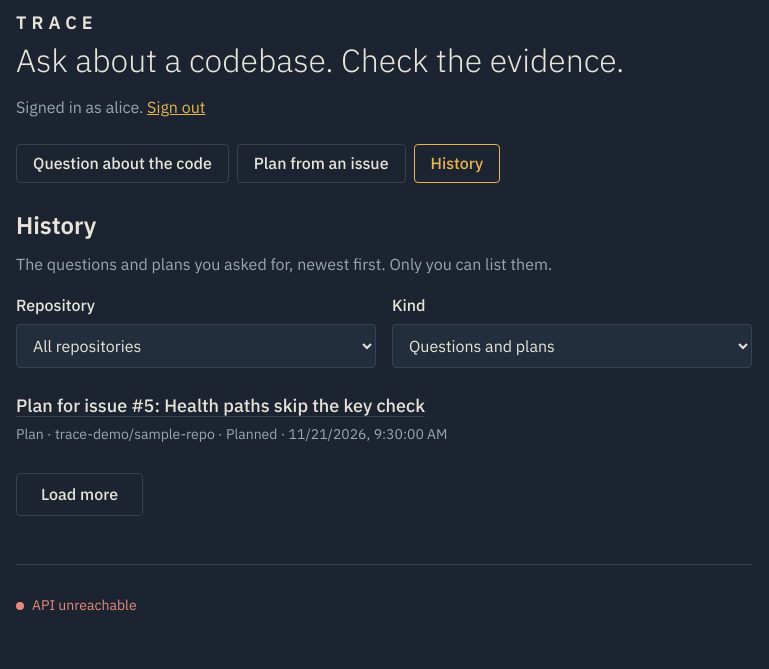
the history list › keeps what is listed when loading more fails, and says so with the reference
Click the button "Load more": (80, 495) left=16, top=473, right=143, bottom=516
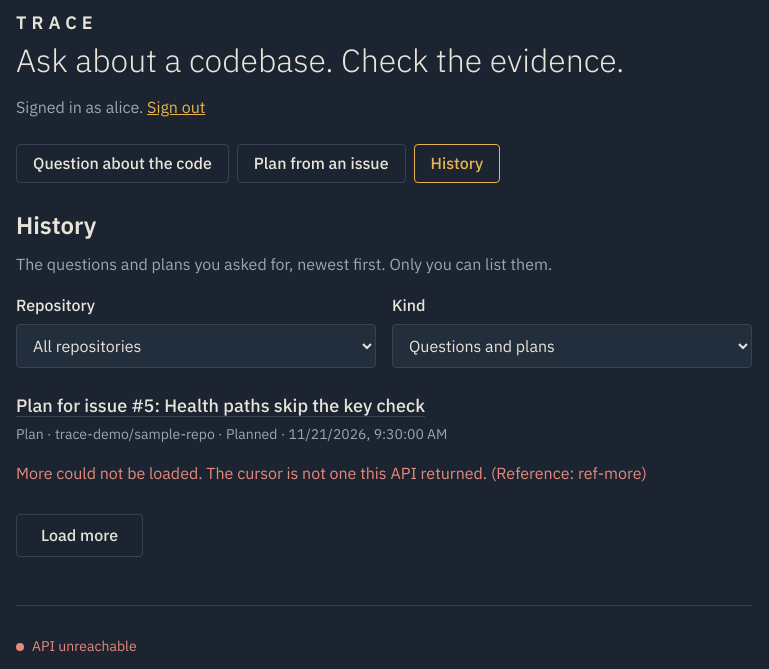
Expected: the link "Plan for issue #5: Health paths skip the key check" is shown, left=16, top=394, right=425, bottom=417
Expected: the message that starts with "More could not be loaded." shows "More could not be loaded. The cursor is not one this API returned. (Reference: ref-more)", left=16, top=461, right=752, bottom=486
